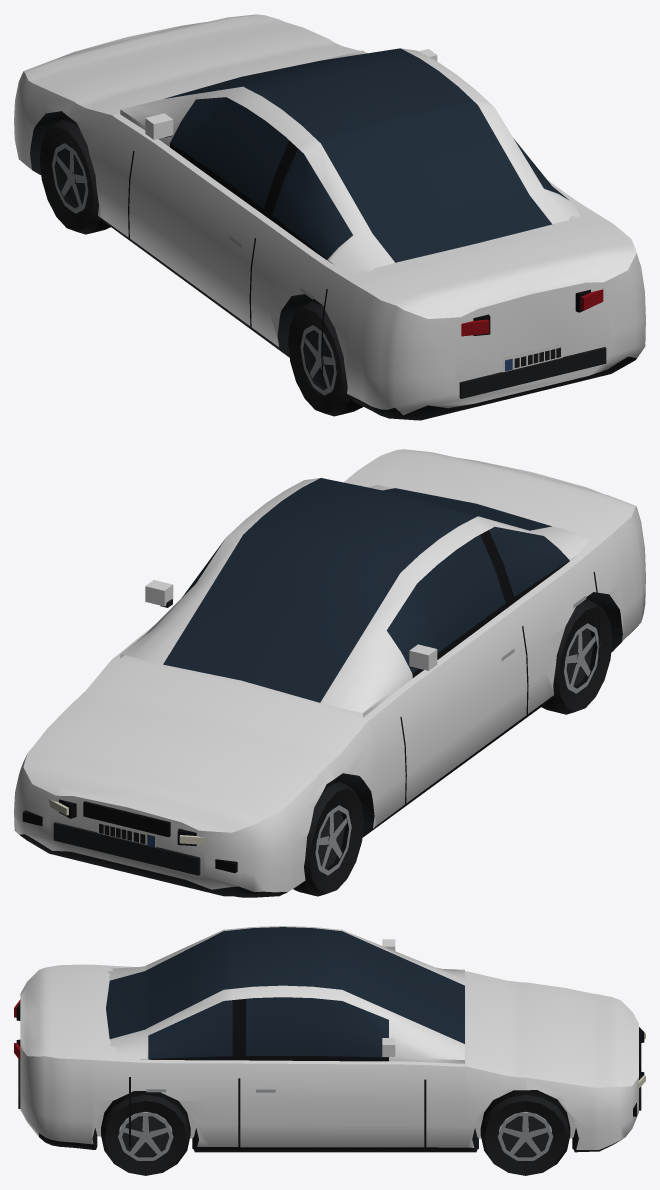
File: sedan.glb
3 renders of one model, top to bottom at view 1: azimuth 30°, elevation 25°; view 2: azimuth 150°, elevation 25°; view 3: azimuth 270°, elevation 25°, orthographic. The views are drawn at different scales.
Parts seen in each view (by area): view 1: sedan; view 2: sedan; view 3: sedan.
Boxes of the visible parts, <box> form: sedan: <box>14,14,645,420</box>; sedan: <box>14,449,645,897</box>; sedan: <box>14,926,645,1175</box>.
Bounding box in the file's own units: 1.9 × 1.46 × 4.79.
